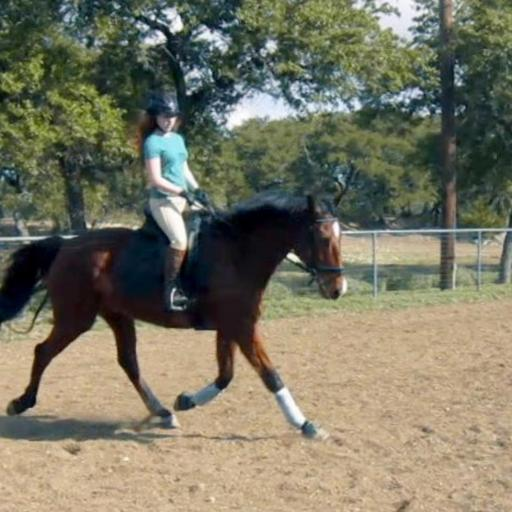horse: (0, 190, 348, 442)
